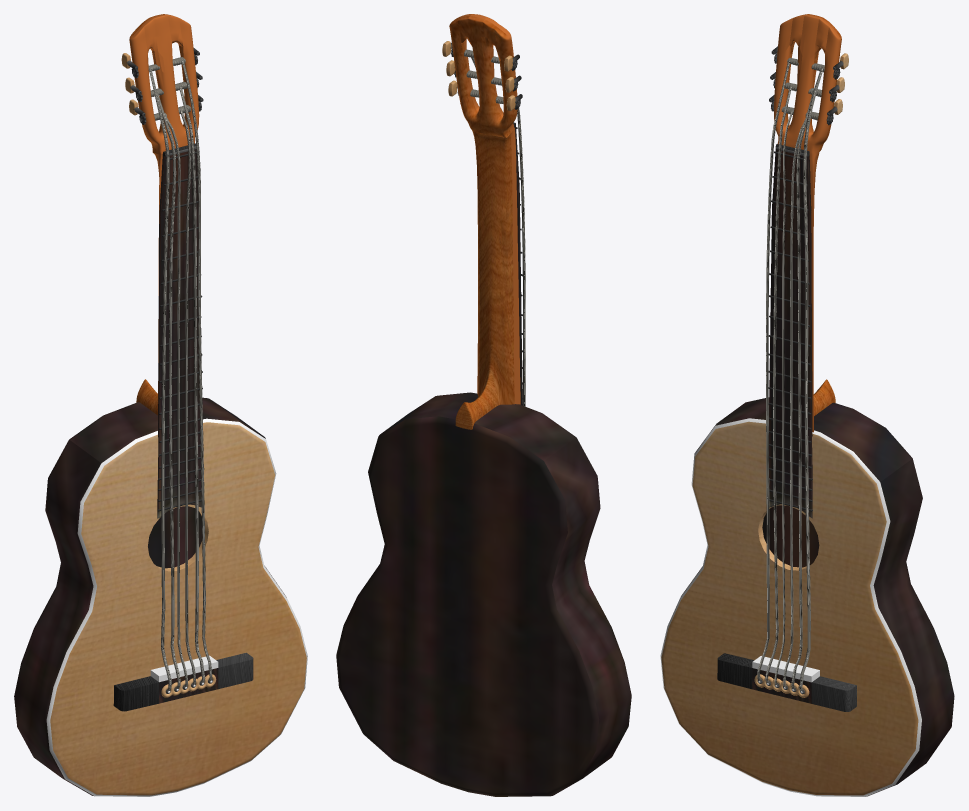
The model's file is guitarra_espanola_millorada_adria_iter.glb.
The picture shows the model from 3 angles, left to right: view 1: azimuth 30°, elevation 25°; view 2: azimuth 150°, elevation 25°; view 3: azimuth 330°, elevation 25°; orthographic projection.
Visible parts, largest first — view 1: pCylinder15, polySurface173, polySurface151, polySurface148, polySurface219, polySurface224, polySurface220, polySurface222, polySurface223, polySurface221; view 2: pCylinder15, polySurface151, polySurface219, polySurface173; view 3: pCylinder15, polySurface173, polySurface151, polySurface148, polySurface222, polySurface219, polySurface224, polySurface220, polySurface223, polySurface221.
Boxes of the visible parts, left/top/right/bottom form: pCylinder15: left=14, top=397, right=307, bottom=796; polySurface173: left=157, top=143, right=201, bottom=518; polySurface151: left=129, top=14, right=199, bottom=415; polySurface148: left=113, top=652, right=253, bottom=711; polySurface219: left=148, top=64, right=171, bottom=690; polySurface224: left=175, top=81, right=205, bottom=682; polySurface220: left=150, top=88, right=180, bottom=688; polySurface222: left=172, top=57, right=212, bottom=680; polySurface223: left=178, top=105, right=195, bottom=684; polySurface221: left=154, top=113, right=187, bottom=686; pCylinder15: left=336, top=392, right=631, bottom=796; polySurface151: left=449, top=14, right=520, bottom=429; polySurface219: left=491, top=56, right=525, bottom=406; polySurface173: left=513, top=122, right=522, bottom=405; pCylinder15: left=660, top=397, right=954, bottom=796; polySurface173: left=769, top=144, right=812, bottom=518; polySurface151: left=774, top=14, right=841, bottom=432; polySurface148: left=717, top=653, right=856, bottom=711; polySurface222: left=799, top=63, right=824, bottom=690; polySurface219: left=757, top=57, right=798, bottom=680; polySurface224: left=791, top=88, right=821, bottom=689; polySurface220: left=765, top=82, right=797, bottom=682; polySurface223: left=783, top=111, right=818, bottom=686; polySurface221: left=774, top=106, right=794, bottom=685.
Bounding box in the file's own units: 0.9194 × 2.55 × 0.2916.
7 materials, 6 textured.
